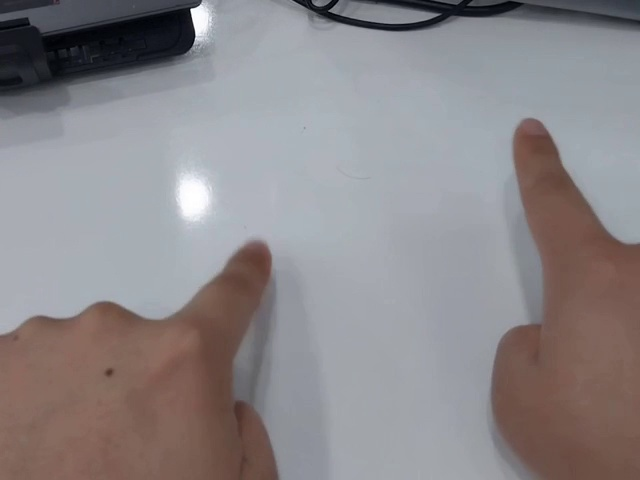fingers: (224, 238, 272, 294), (511, 117, 561, 168)
